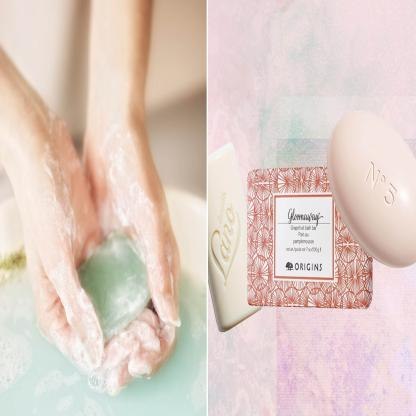soap: (198, 124, 269, 338), (323, 109, 415, 273)
